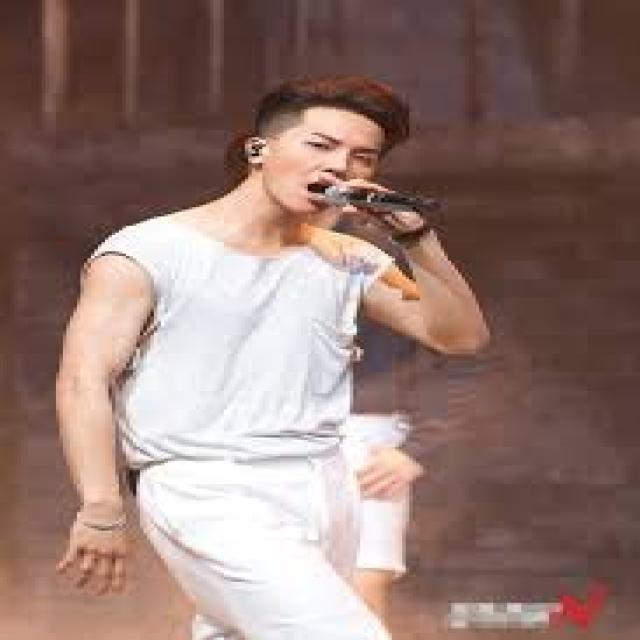earphone: (246, 136, 270, 179)
